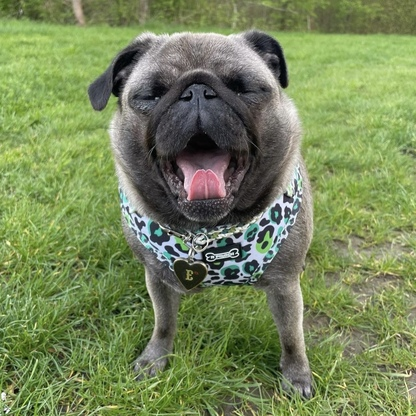Pug: (82, 25, 323, 401)
